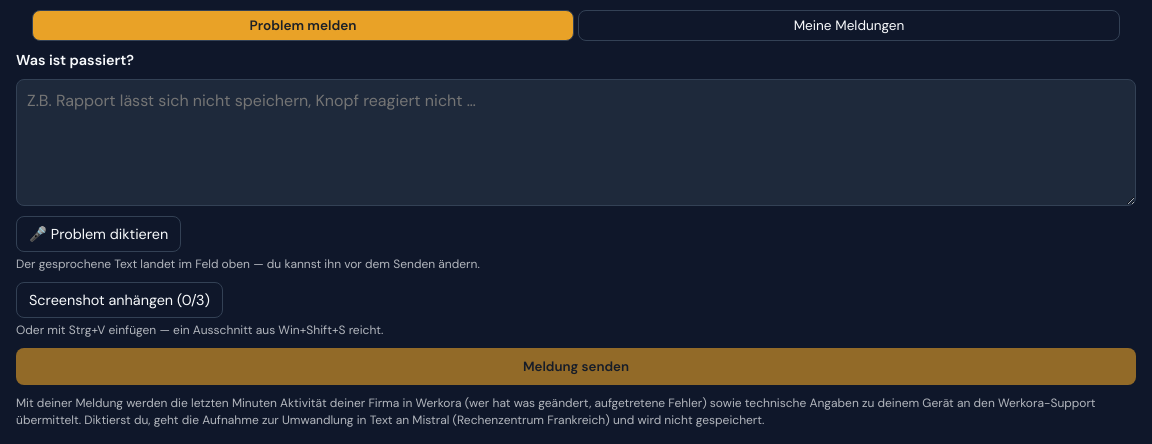
SupportForm — zwei Ansichten › wechselt über den Umschalter hin und her
This screenshot has width=1152, height=444.
Click the tab "Meine Meldungen" at (849, 26), box [578,10,1120,41]
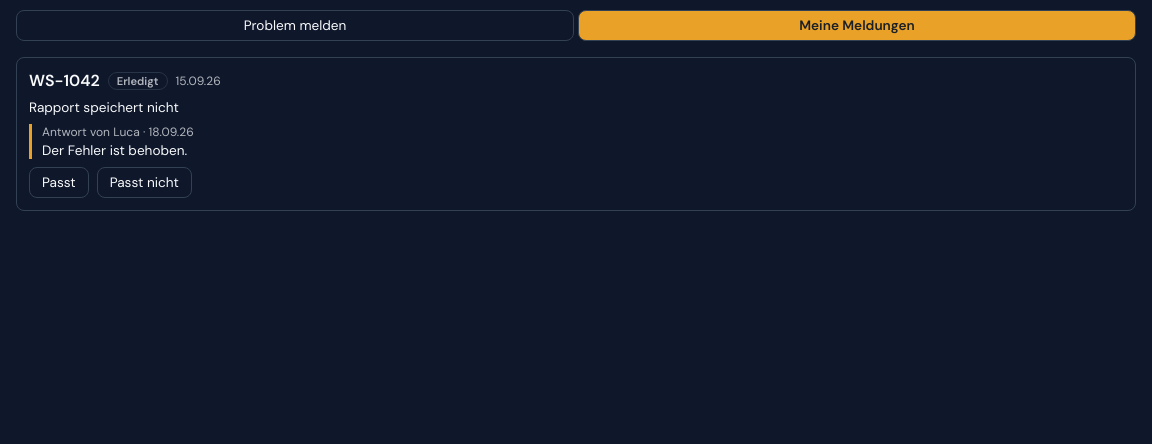
Now the text "Der Fehler ist behoben." is shown, box [42,142,187,159]
Click the tab "Problem melden" at (295, 26), box [16,10,574,41]
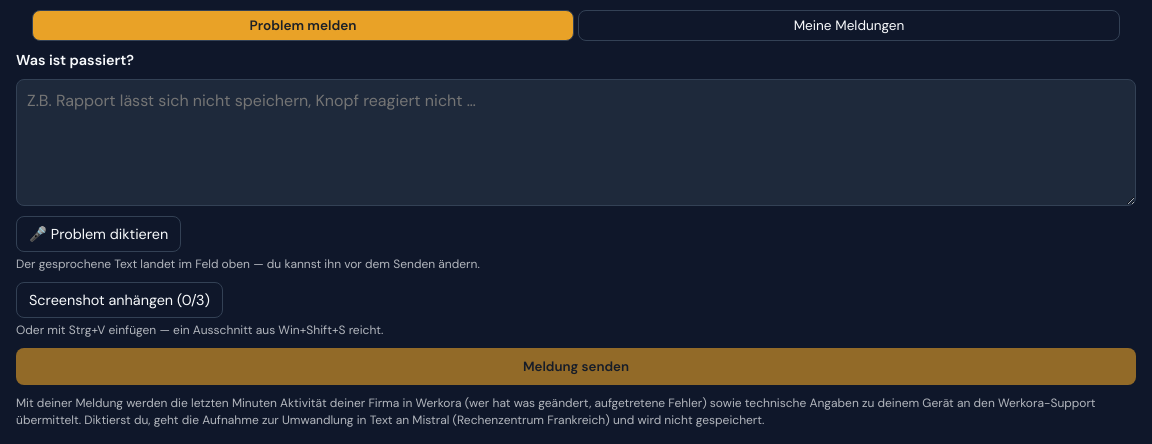
Now the text box labelled "Was ist passiert?" is shown, box [16,79,1136,206]
